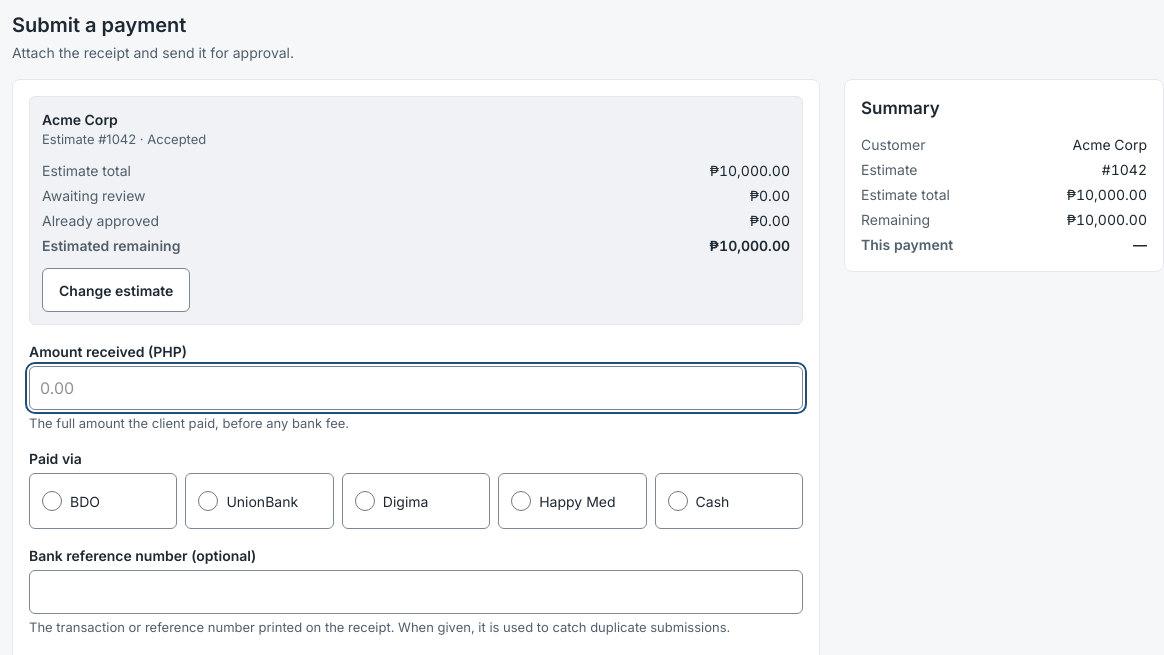
Test: SubmitPaymentPage › invoice check against QuickBooks › warns when the amount is more than the invoice can still take
Step 1. Type "500" into the field labelled "Amount received (PHP)" → (416,388), box x1=29 y1=366 x2=803 y2=410
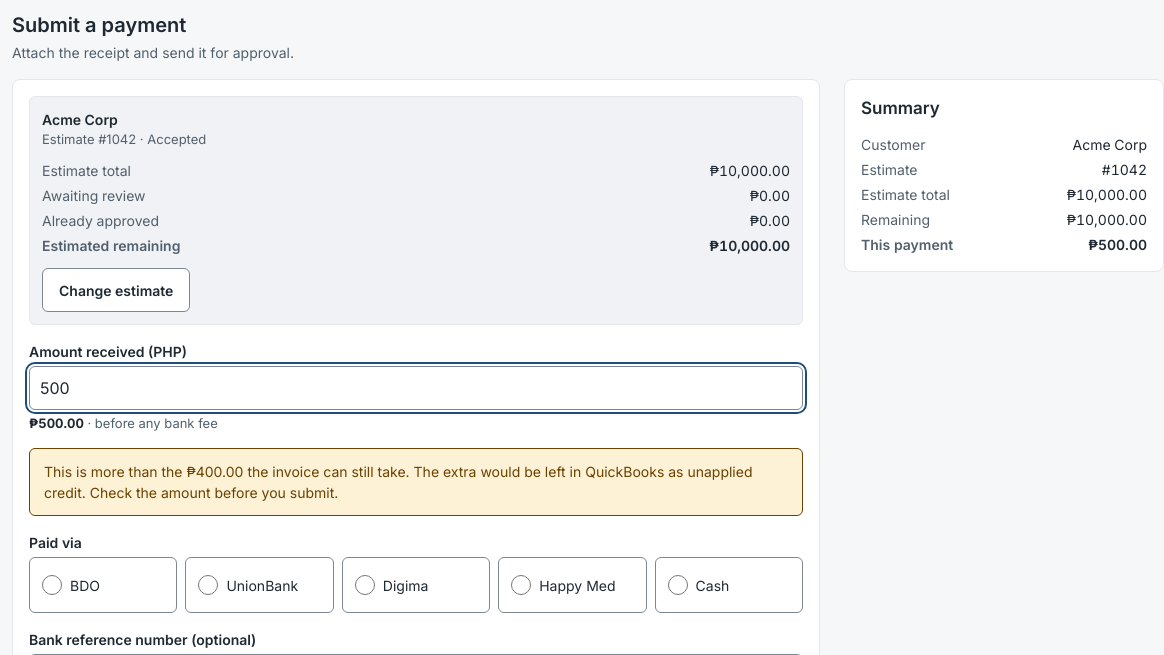
Expected: the text "more than the ₱400.00 the invoice can still take" is shown, x1=29 y1=448 x2=803 y2=516
